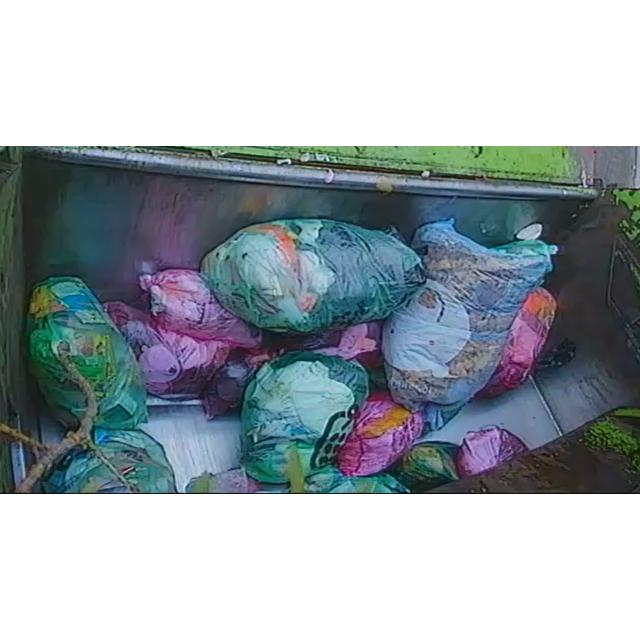general_trashbag: (200, 218, 425, 331), (240, 352, 406, 493), (28, 276, 148, 430), (41, 428, 176, 494)
other_trashbag: (382, 220, 558, 409), (104, 268, 261, 397), (139, 268, 261, 348), (480, 287, 556, 397), (338, 400, 424, 476)
